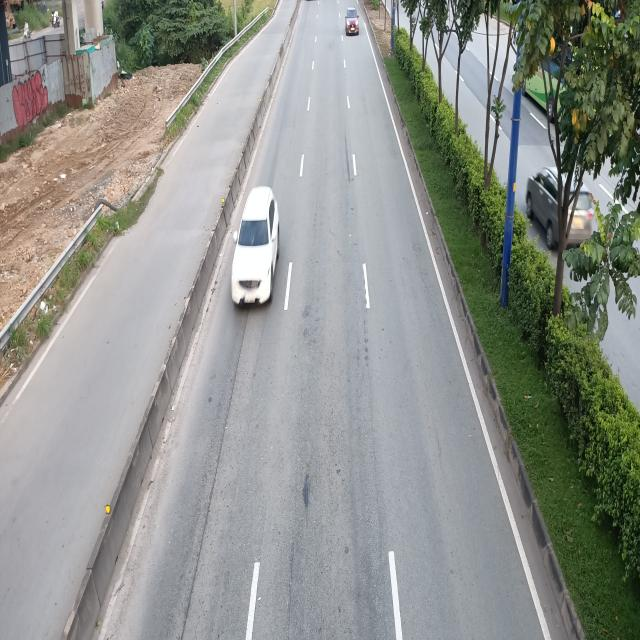car: (231, 185, 279, 308), (346, 5, 360, 34)
